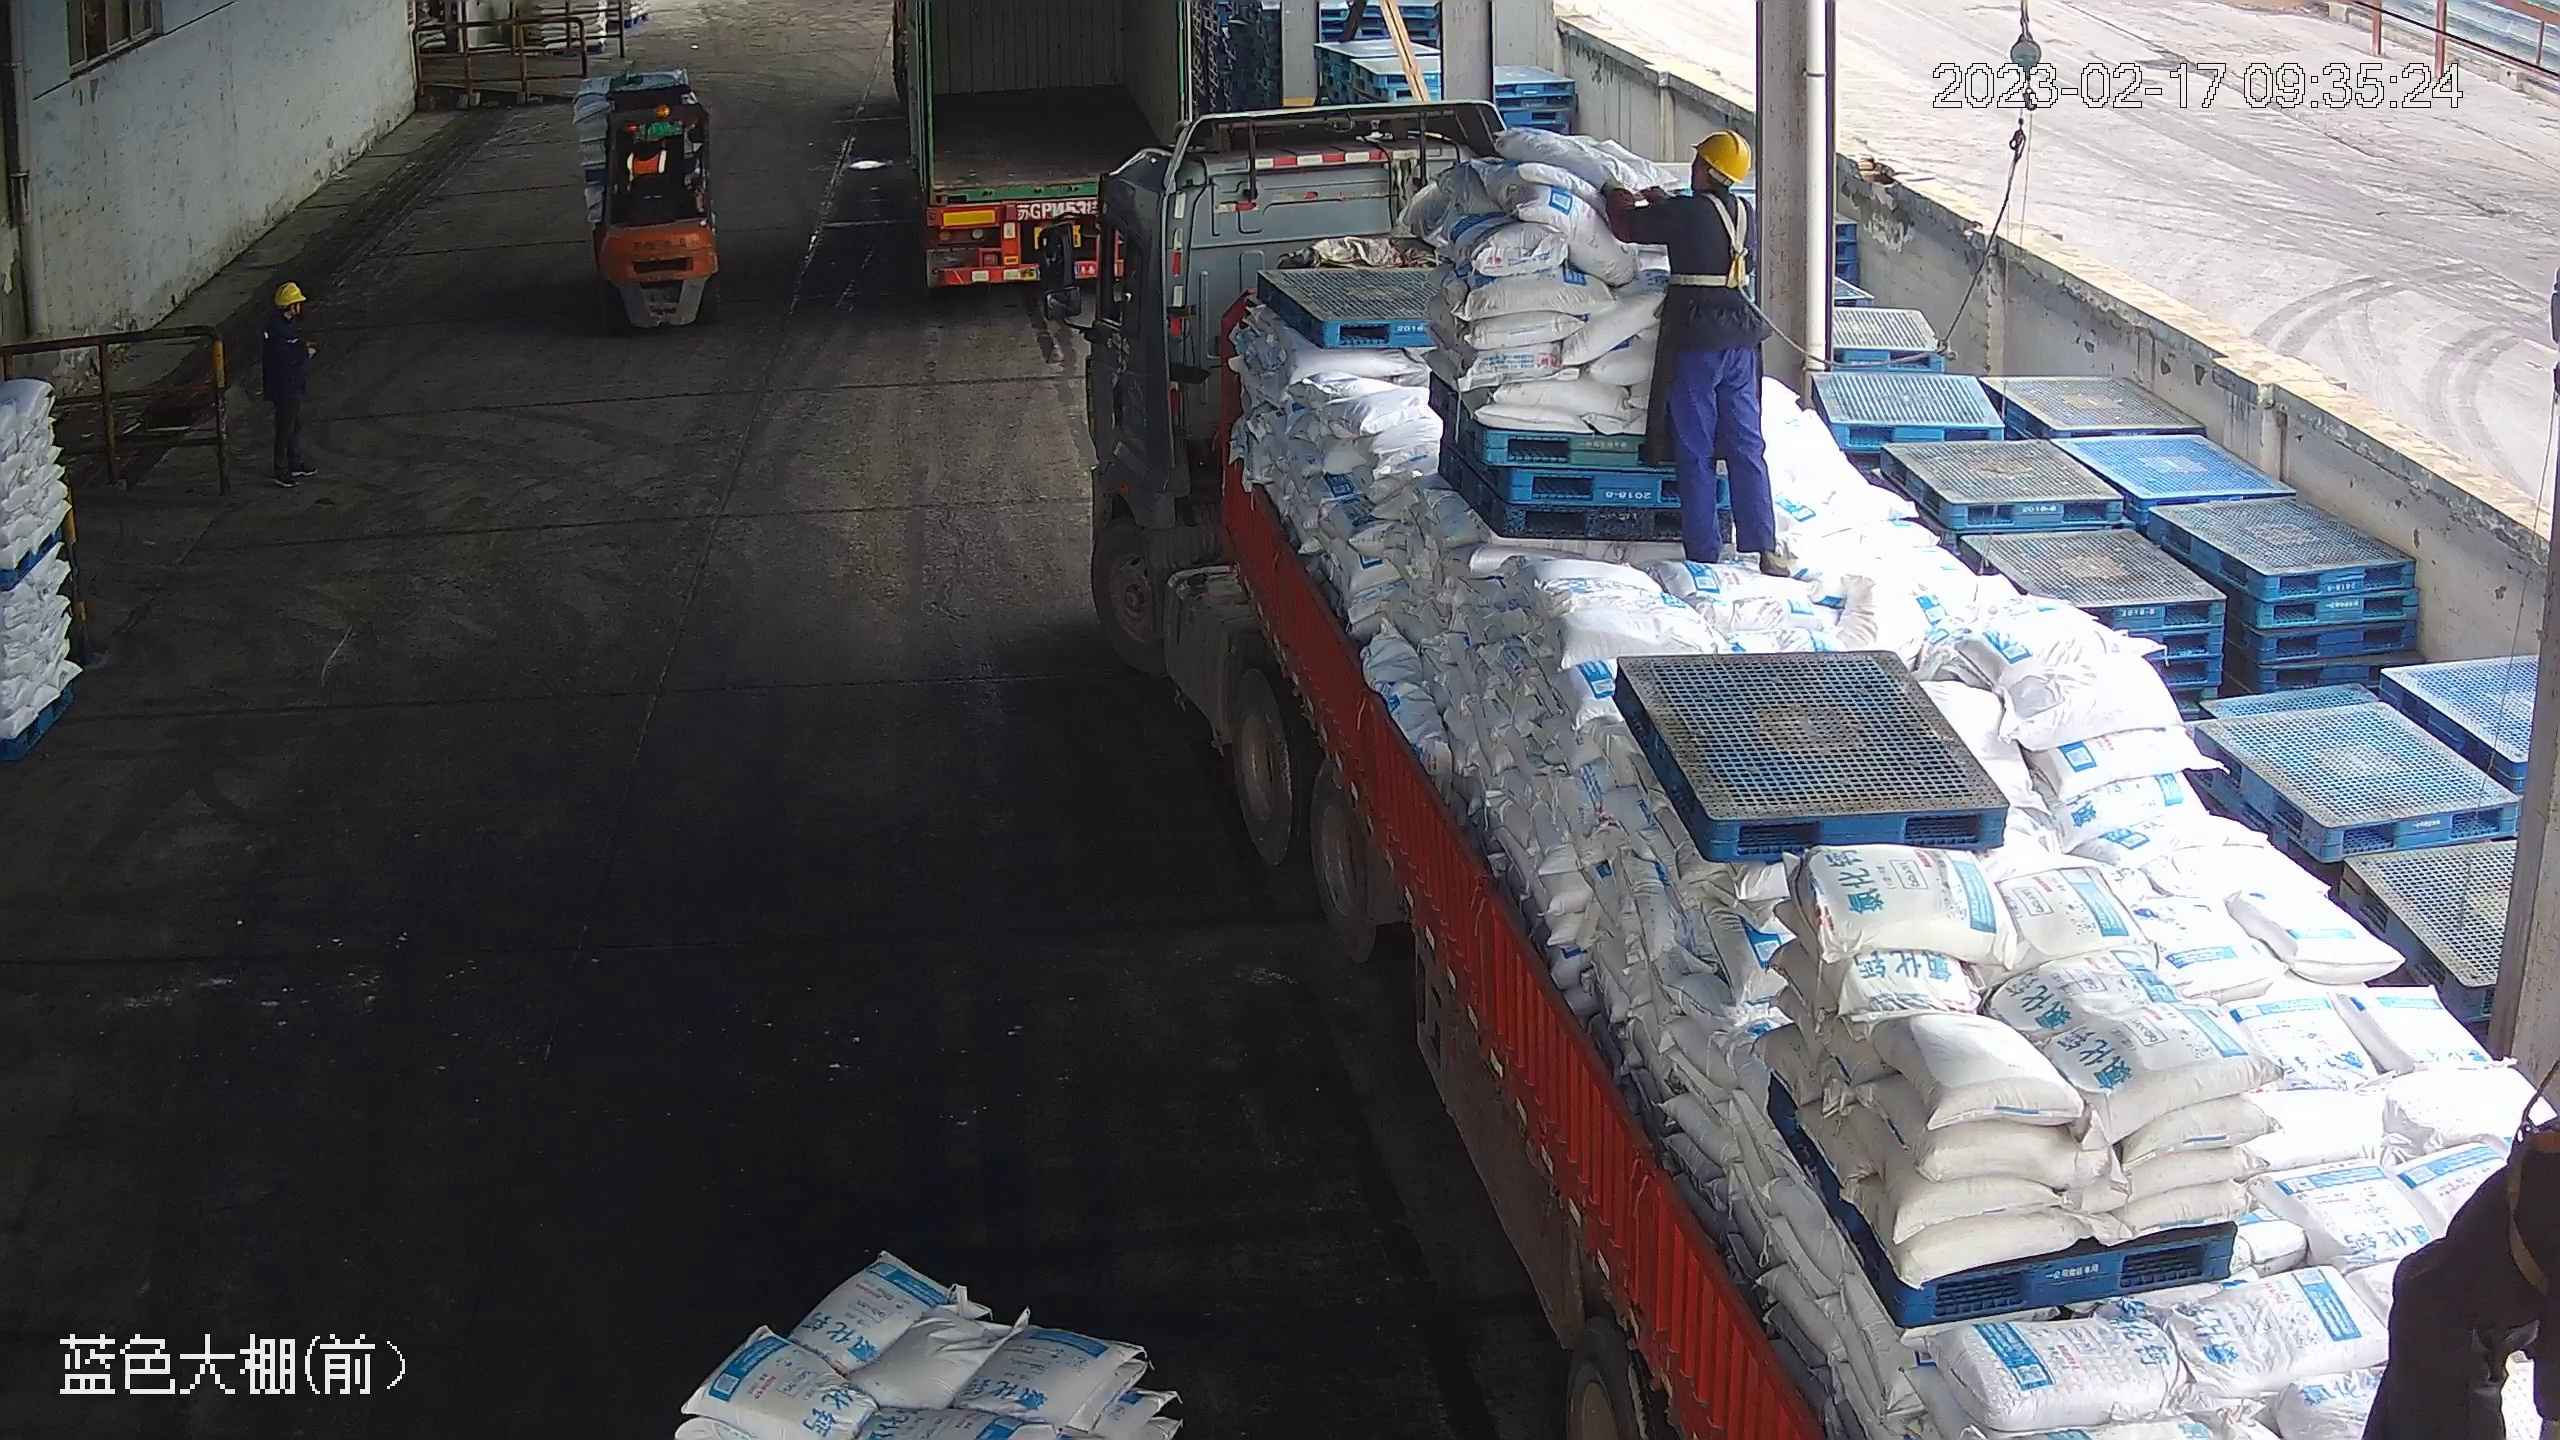belt: (2462, 1109, 2560, 1309), (1667, 185, 1757, 291)
head: (1650, 127, 1761, 242), (260, 280, 313, 346)
helmet: (1694, 128, 1751, 184), (273, 281, 306, 305)
people: (1595, 125, 1782, 574), (257, 277, 319, 488)
truck: (1041, 147, 2557, 1440), (886, 1, 1194, 293)
